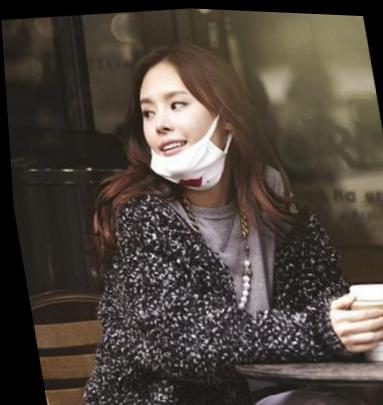WRONG: (131, 80, 235, 188)
